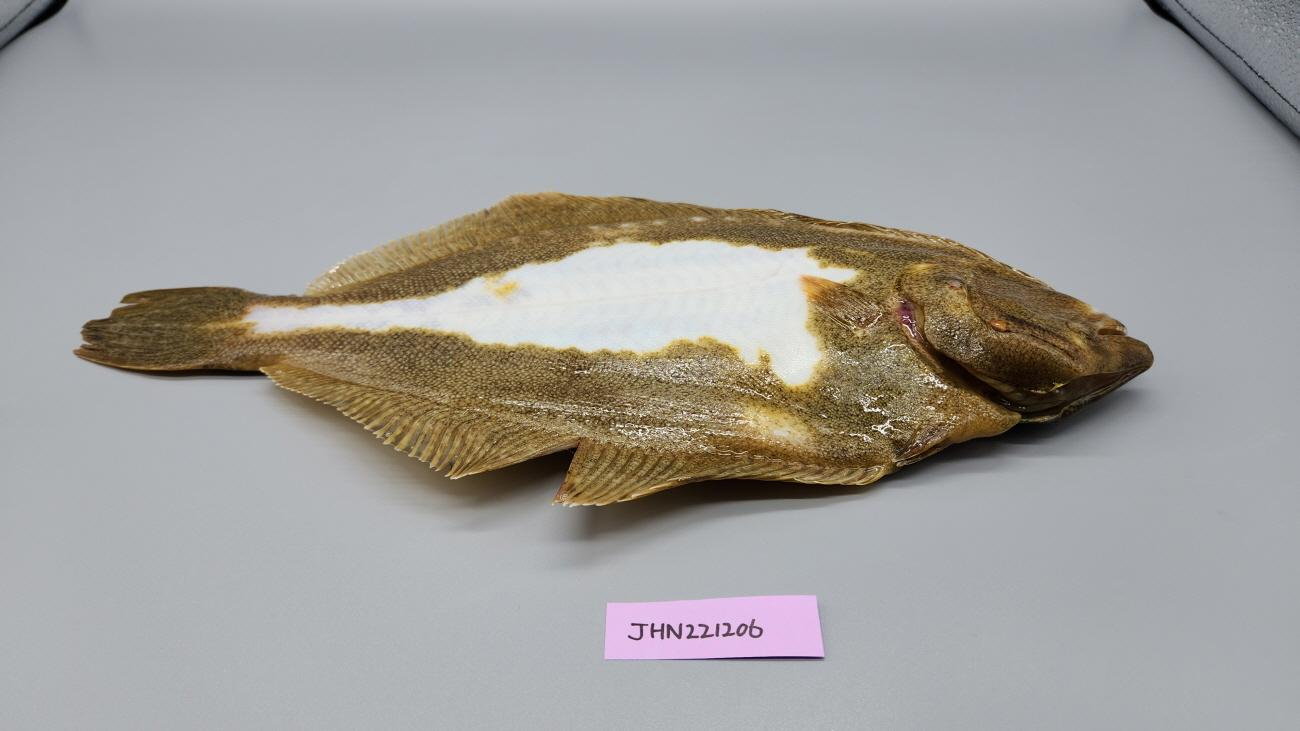POOUN: (70, 192, 1156, 511)
